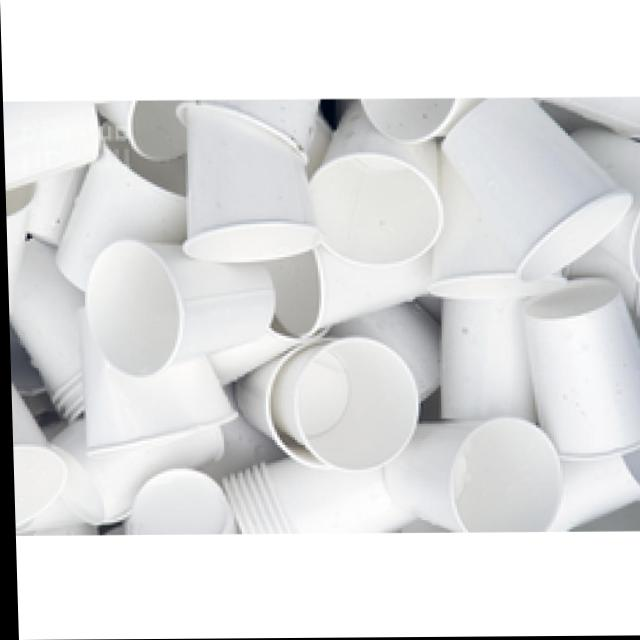paper_cups: (439, 100, 634, 286), (80, 234, 272, 380), (230, 337, 418, 474), (48, 121, 188, 296), (177, 106, 325, 266), (517, 276, 640, 465), (301, 110, 442, 268), (380, 416, 560, 533)
